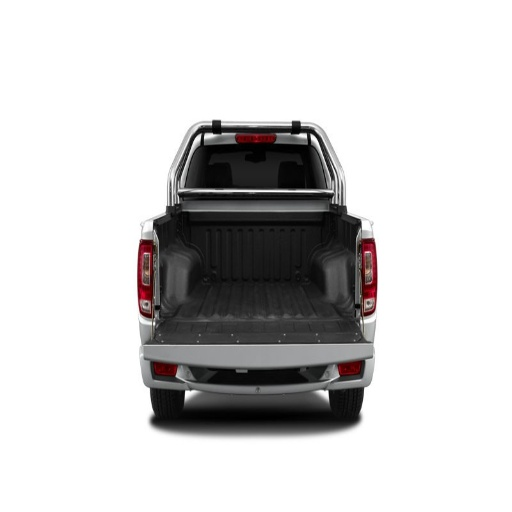back_bumper: (141, 345, 241, 387)
trunk: (141, 191, 352, 355)
